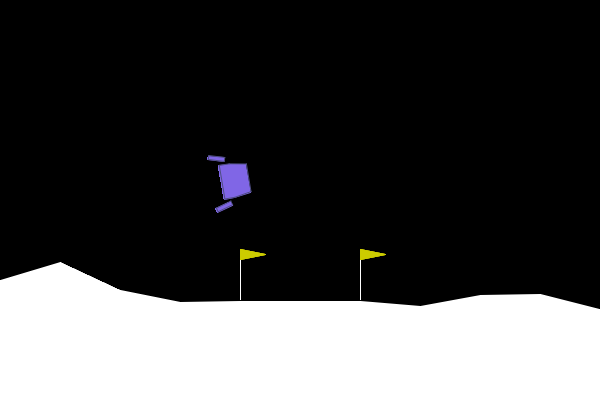lander: (206, 148, 255, 214)
